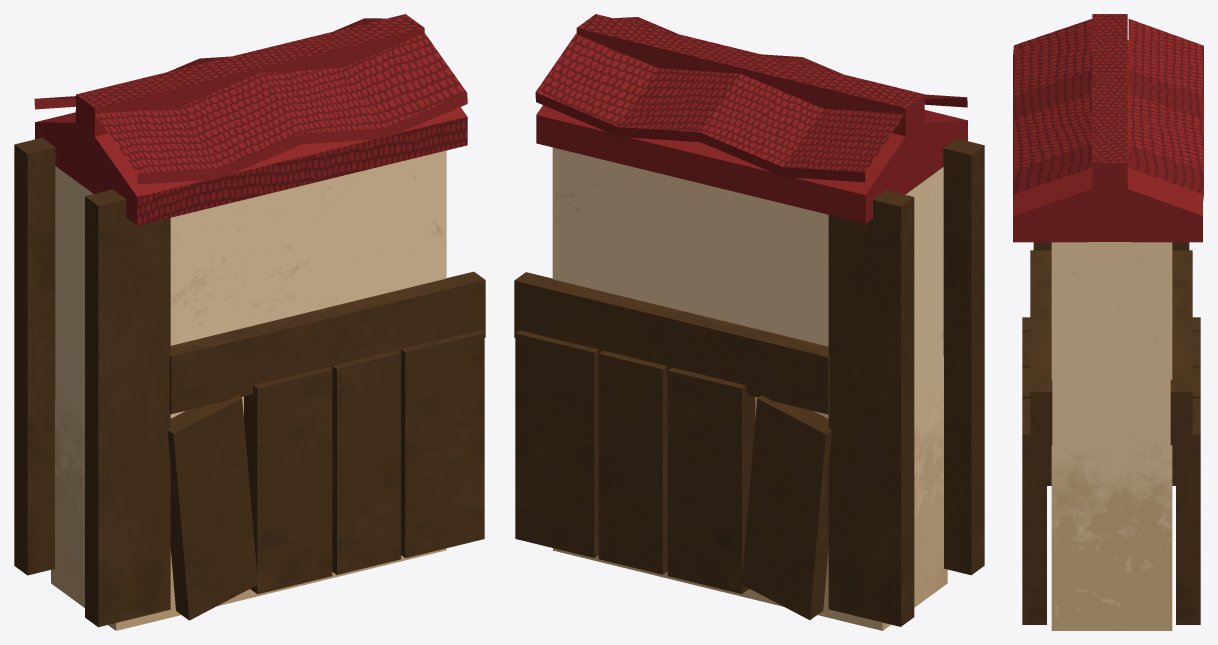
The model's file is ModuleShortWall.fbx.
The picture shows the model from 3 angles, left to right: view 1: azimuth 30°, elevation 25°; view 2: azimuth 150°, elevation 25°; view 3: azimuth 270°, elevation 25°; orthographic projection. The views are drawn at different scales.
Visible parts, largest first — view 1: ShortWallDec001, ModuleShortWall, ShortWallDec; view 2: ShortWallDec, ModuleShortWall, ShortWallDec001; view 3: ModuleShortWall, ShortWallDec001, ShortWallDec.
Part boxes in pixels (x1,y1,x2,y2): ShortWallDec001: (85,189,485,627); ModuleShortWall: (34,14,467,630); ShortWallDec: (14,137,93,575); ShortWallDec: (514,190,914,626); ModuleShortWall: (535,14,967,630); ShortWallDec001: (905,138,984,575); ModuleShortWall: (1013,14,1203,630); ShortWallDec001: (1022,242,1052,624); ShortWallDec: (1170,242,1200,624).
Bounding box in the file's own units: 28.17 × 35.32 × 13.04.
2 materials, 2 textured.
